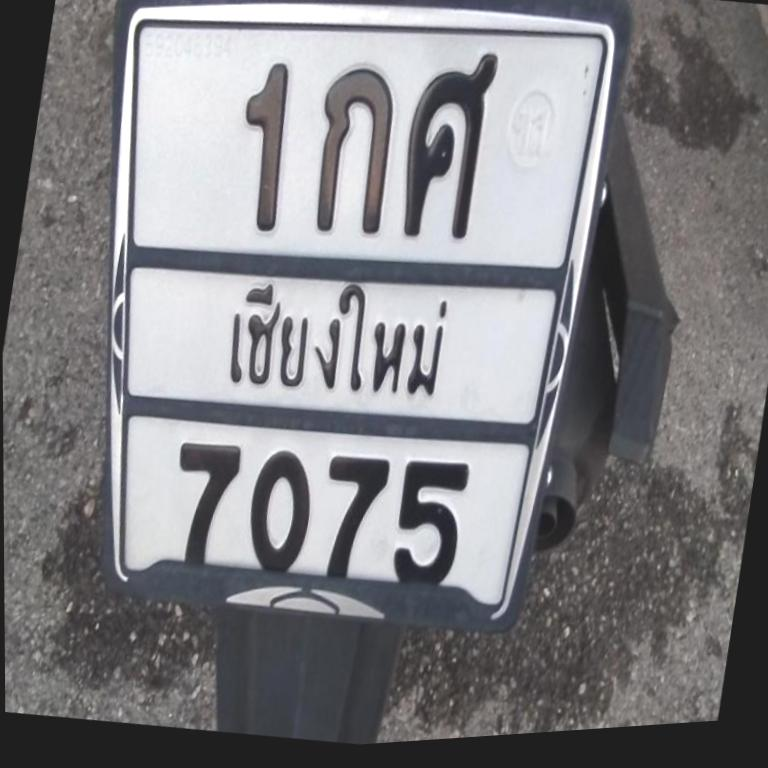license plate: (12, 0, 638, 680)
